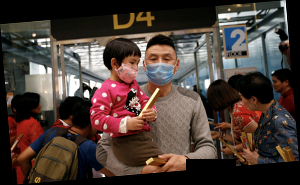with_mask: (146, 50, 177, 86), (117, 58, 140, 85)
without_mask: (272, 78, 286, 93), (32, 99, 43, 115)
